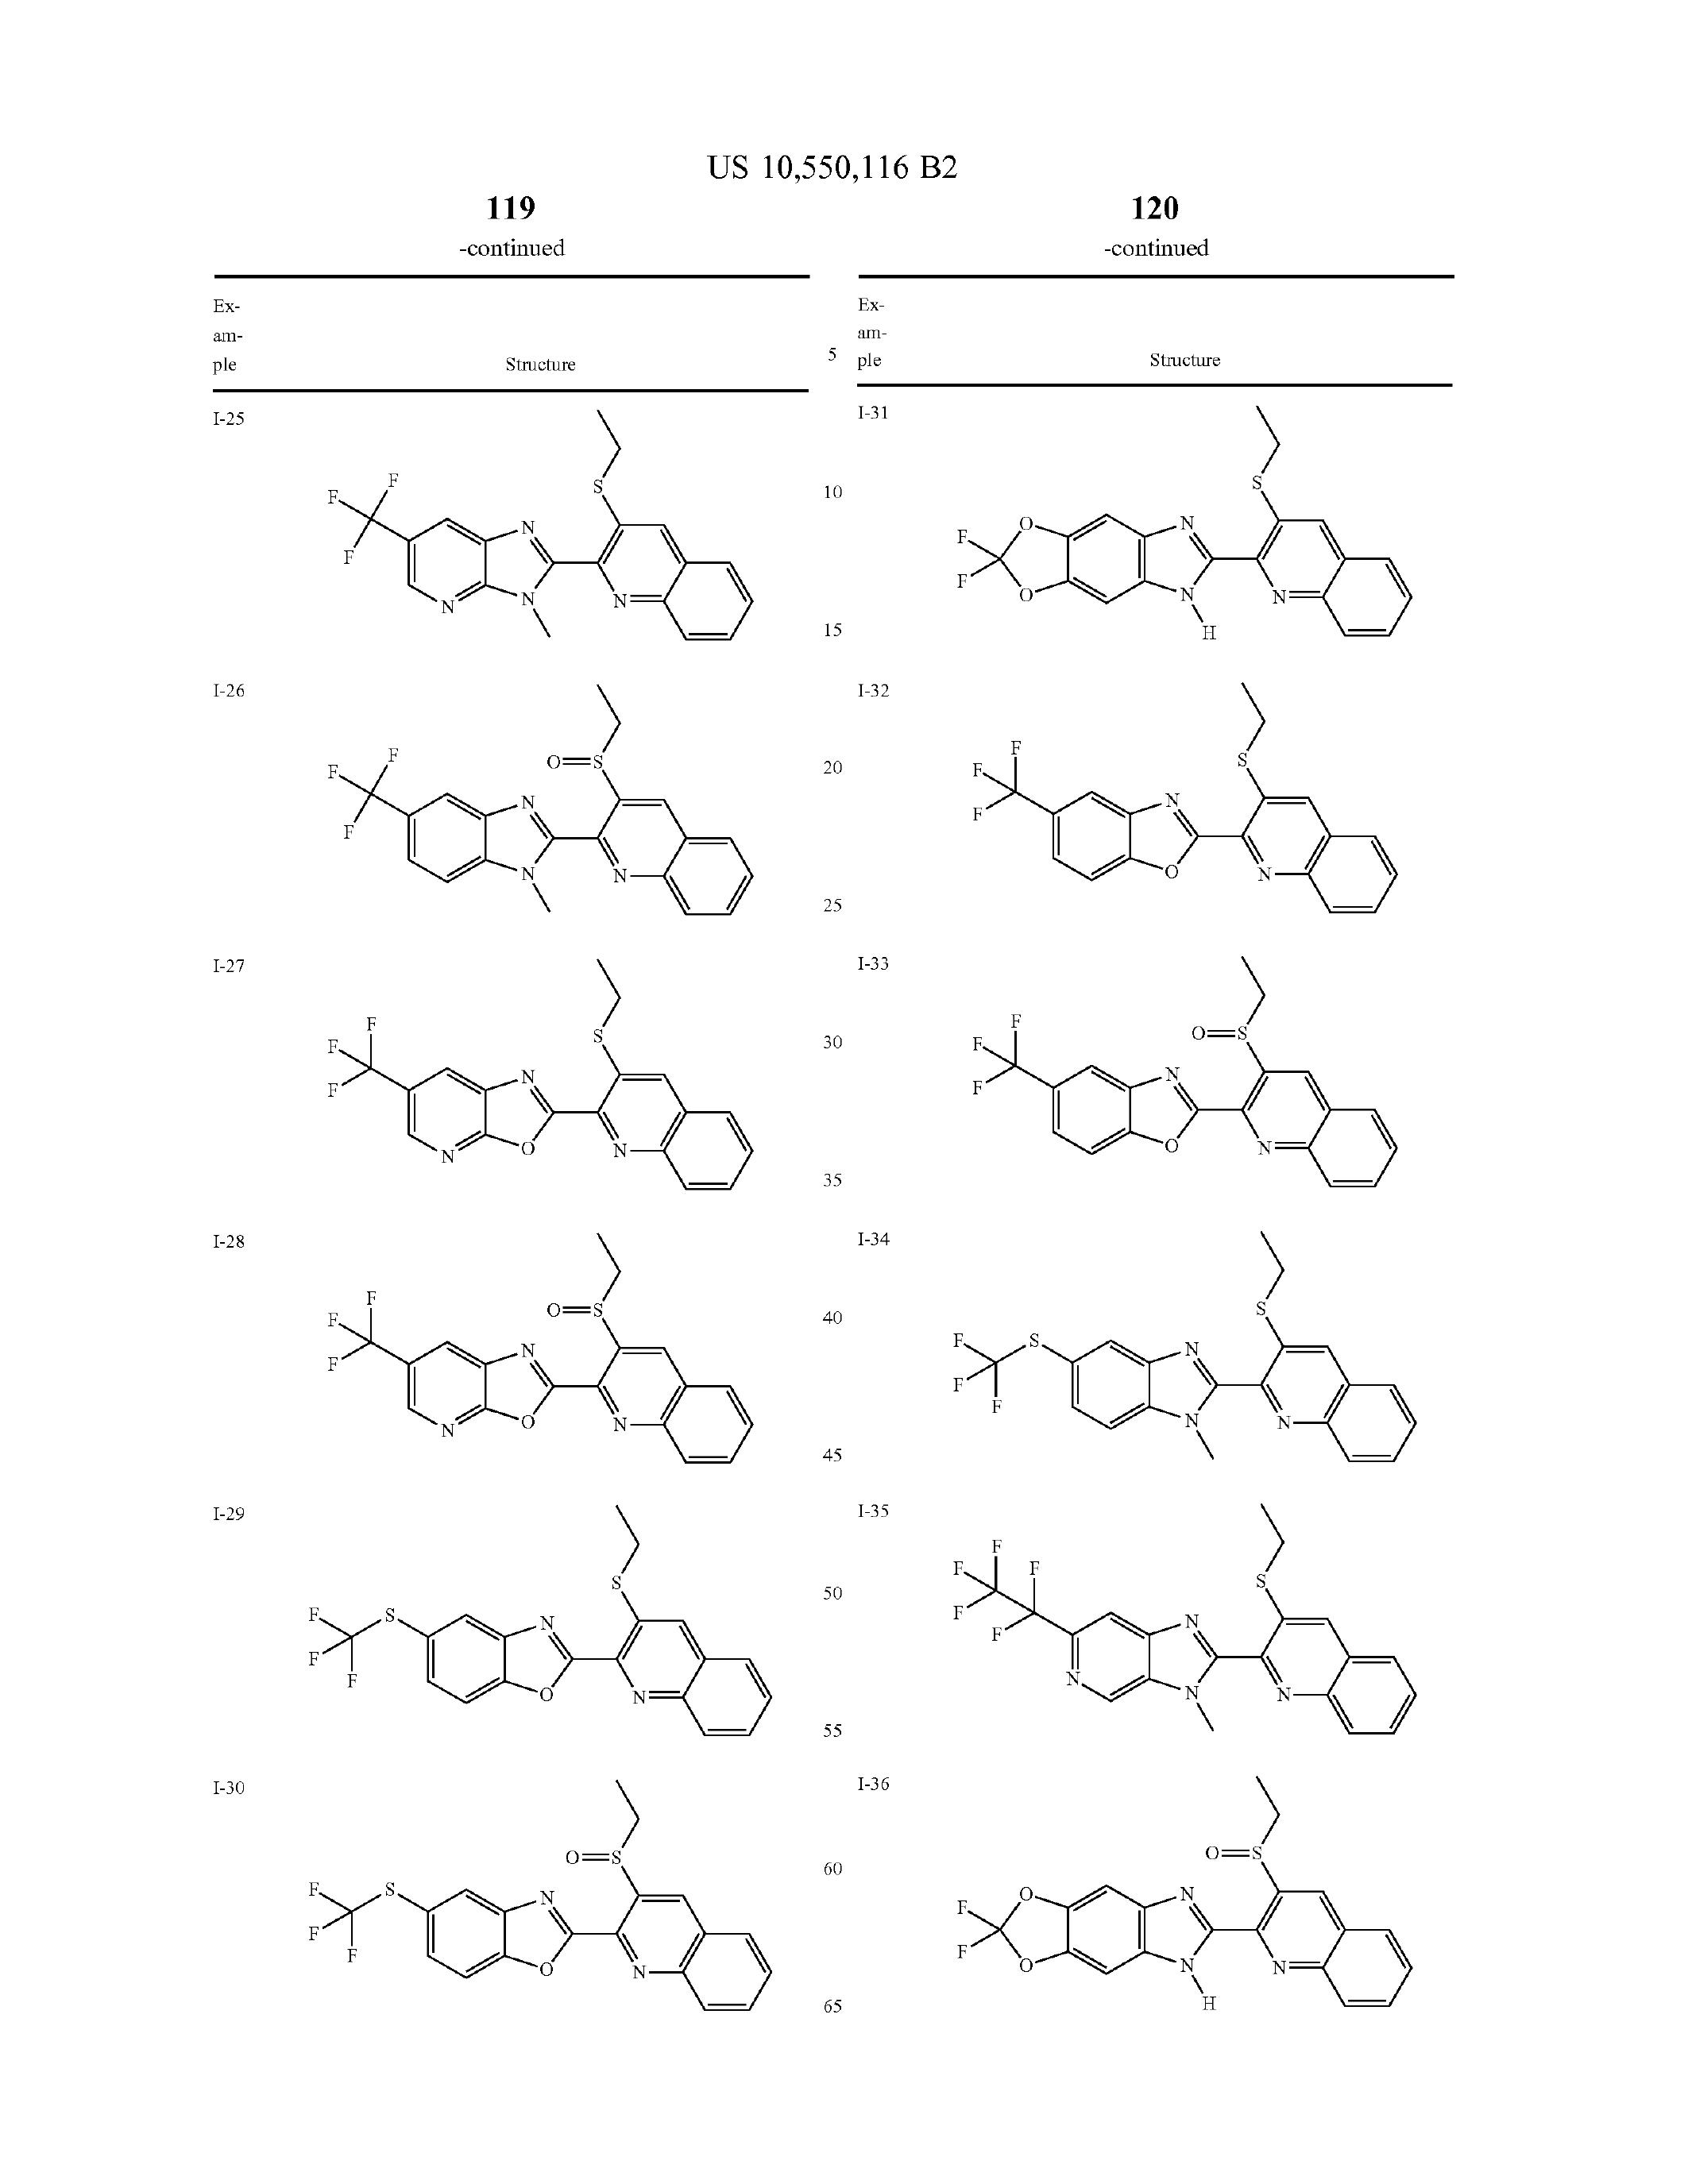relevant-structures: (950, 1769, 1512, 2085), (293, 1778, 817, 2087), (942, 1489, 1497, 1771), (933, 1213, 1481, 1493), (312, 394, 796, 679), (300, 1512, 810, 1778), (918, 957, 1443, 1213), (934, 413, 1456, 668), (309, 1232, 784, 1496), (940, 690, 1433, 927), (312, 952, 777, 1204), (324, 702, 778, 938), (1206, 1792, 1227, 1805)
